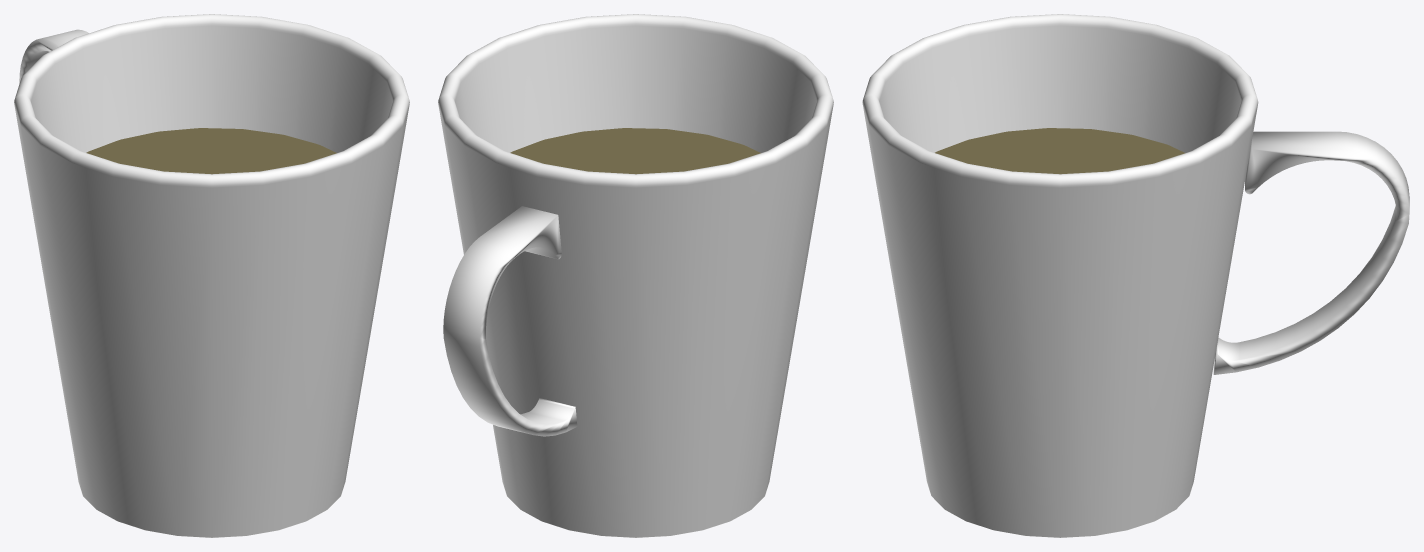
3 renders of one model, left to right at view 1: azimuth 30°, elevation 25°; view 2: azimuth 150°, elevation 25°; view 3: azimuth 270°, elevation 25°, orthographic.
Parts seen in each view (by area): view 1: mesh2_mesh2-geometry_1, mesh3_mesh3-geometry, mesh1_mesh1-geometry; view 2: mesh2_mesh2-geometry_1, mesh1_mesh1-geometry, mesh3_mesh3-geometry; view 3: mesh2_mesh2-geometry_1, mesh1_mesh1-geometry, mesh3_mesh3-geometry.
Part boxes in pixels (x1,y1,x2,y2): mesh2_mesh2-geometry_1: (14,14,409,537); mesh3_mesh3-geometry: (86,128,336,174); mesh1_mesh1-geometry: (19,29,88,83); mesh2_mesh2-geometry_1: (438,14,833,537); mesh1_mesh1-geometry: (443,206,577,436); mesh3_mesh3-geometry: (510,128,760,174); mesh2_mesh2-geometry_1: (862,14,1258,537); mesh1_mesh1-geometry: (1213,131,1409,374); mesh3_mesh3-geometry: (935,128,1185,174).
Bounding box in the file's own units: 0.4956 × 0.5341 × 0.6849.
